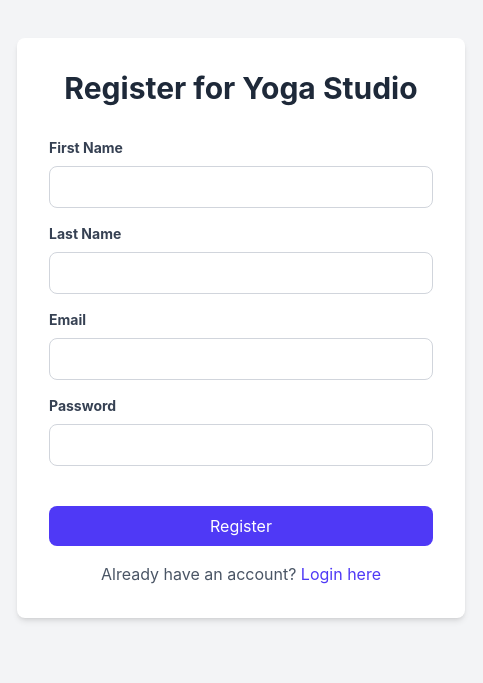
Scenario: Register (integration) › displays the error message returned by the API on failure
Step 1. Type "Victor" into the field named "firstName" below "First Name" → [241, 187], box [49, 166, 433, 208]
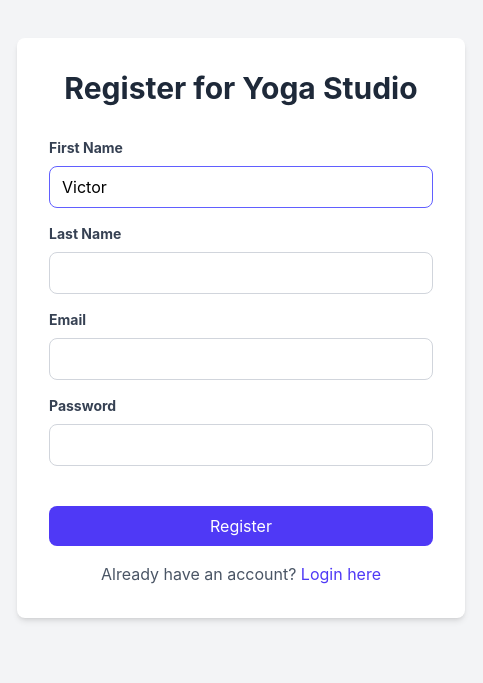
Step 2. Type "Pille" into the field named "lastName" below "Last Name" → [241, 273], box [49, 252, 433, 294]
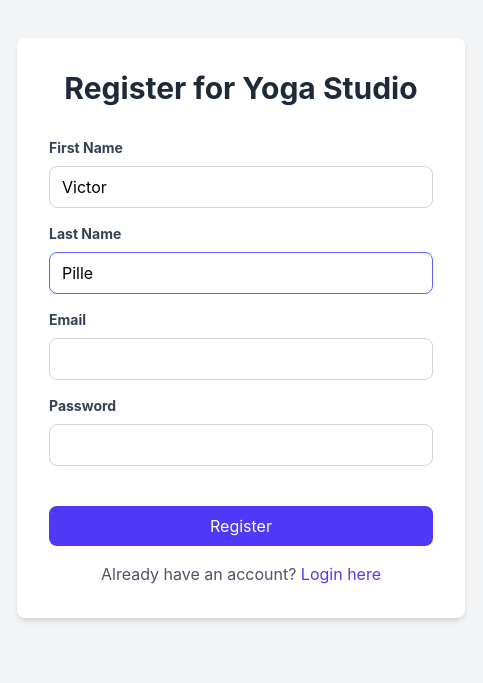
Step 3. Type "victor@yoga.com" into the field named "email" below "Email" → [241, 359], box [49, 338, 433, 380]
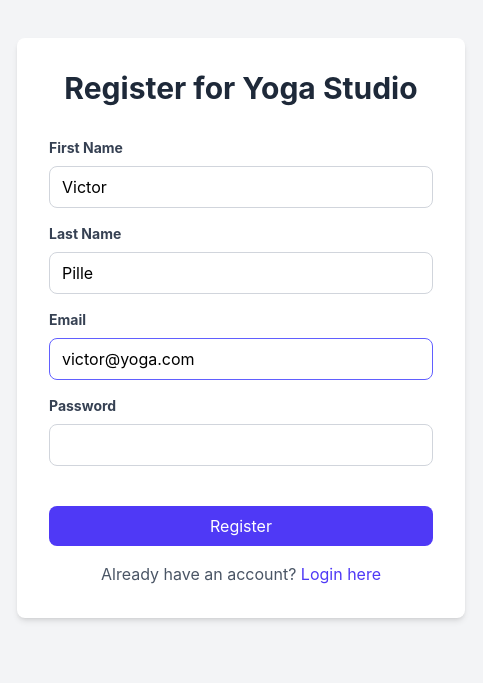
Step 4. Type "Azerty#0" into the password field named "password" → [241, 445], box [49, 424, 433, 466]
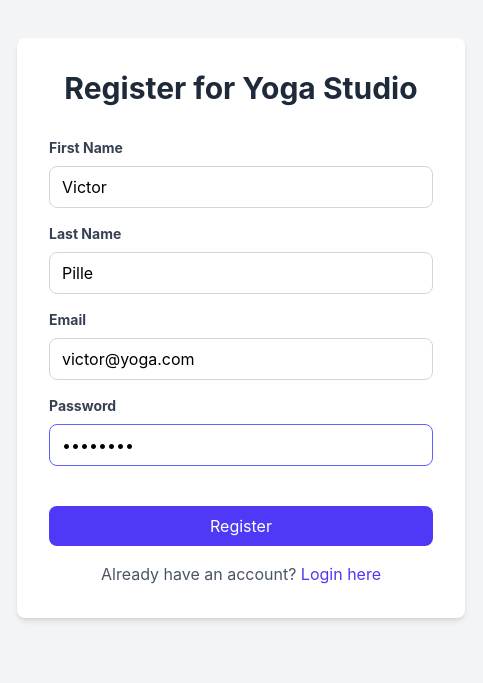
Step 5. Click the button "Register" → [241, 526], box [49, 506, 433, 546]
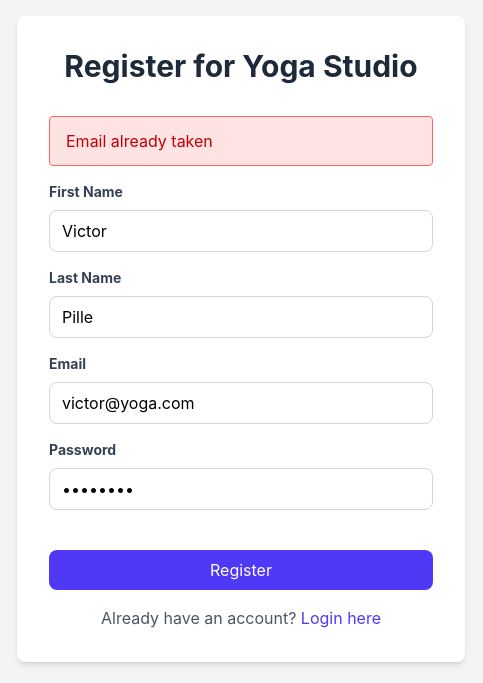
Check: the text "Email already taken" is shown, box [49, 116, 433, 166]
